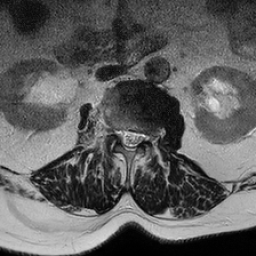CCS_normal: (126, 121, 133, 157)
LFS_stenosis: (142, 125, 150, 149)
LLS_normal: (134, 124, 142, 150)
RFS_stenosis: (109, 120, 118, 142)
RLS_normal: (118, 123, 126, 153)
